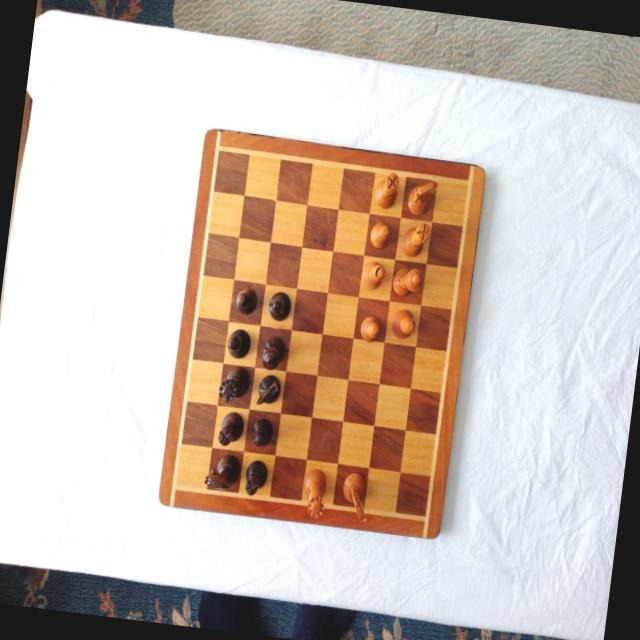black-bishop: (267, 289, 293, 322), (225, 327, 251, 360)
black-king: (260, 333, 286, 371)
black-knight: (203, 451, 241, 491), (255, 373, 281, 407)
black-pawn: (249, 416, 274, 447), (234, 286, 259, 316)
black-queen: (217, 364, 251, 404)
black-rook: (215, 410, 244, 447), (243, 458, 269, 498)
white-bishop: (389, 307, 417, 341), (360, 258, 387, 291)
white-king: (391, 264, 425, 297)
white-knight: (338, 470, 372, 523), (406, 177, 438, 217)
white-pawn: (368, 219, 392, 249), (358, 313, 382, 343)
white-queen: (299, 466, 329, 520)
white-rook: (401, 218, 431, 257), (374, 170, 400, 209)
